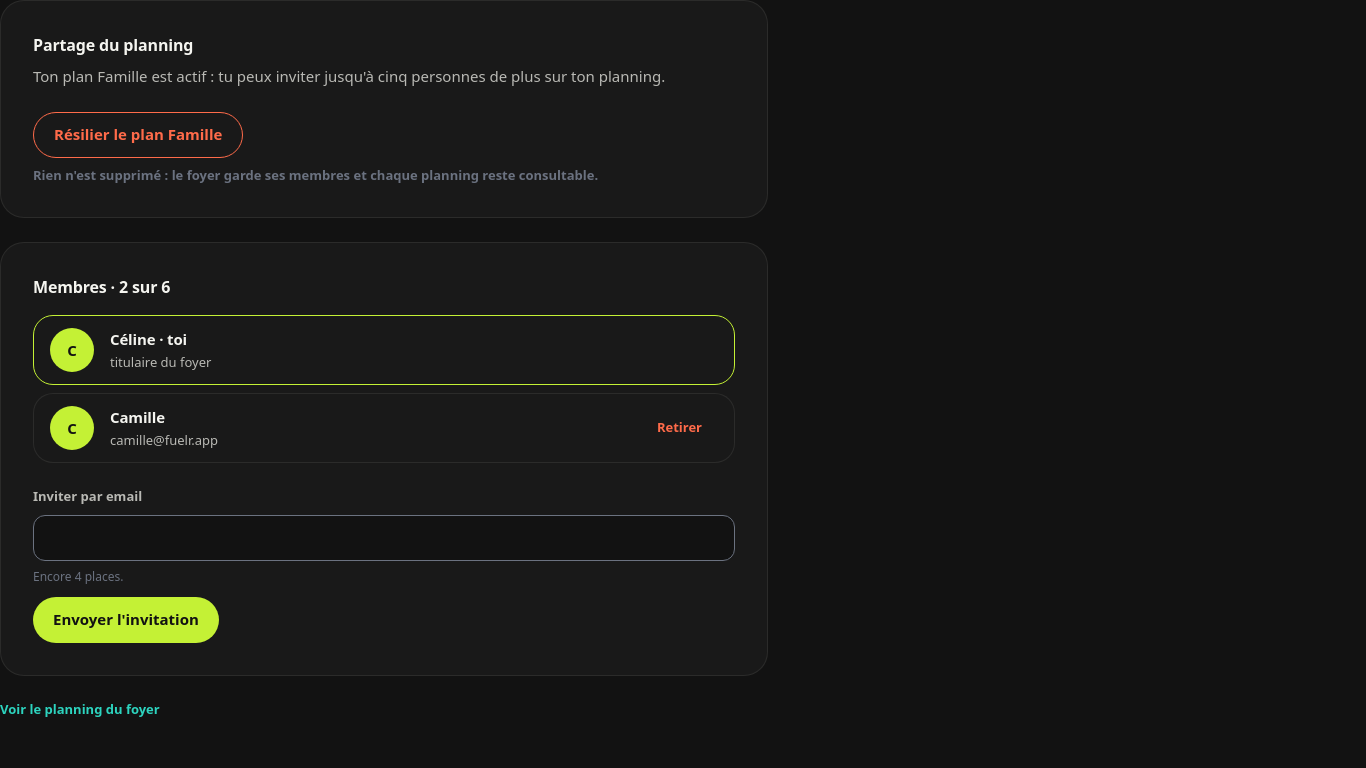
Scenario: HouseholdPanel › a member stays when the question is answered no
Click the button with aria-label "Retirer Camille du foyer". click: (679, 428)
box: 641,410 -> 718,446
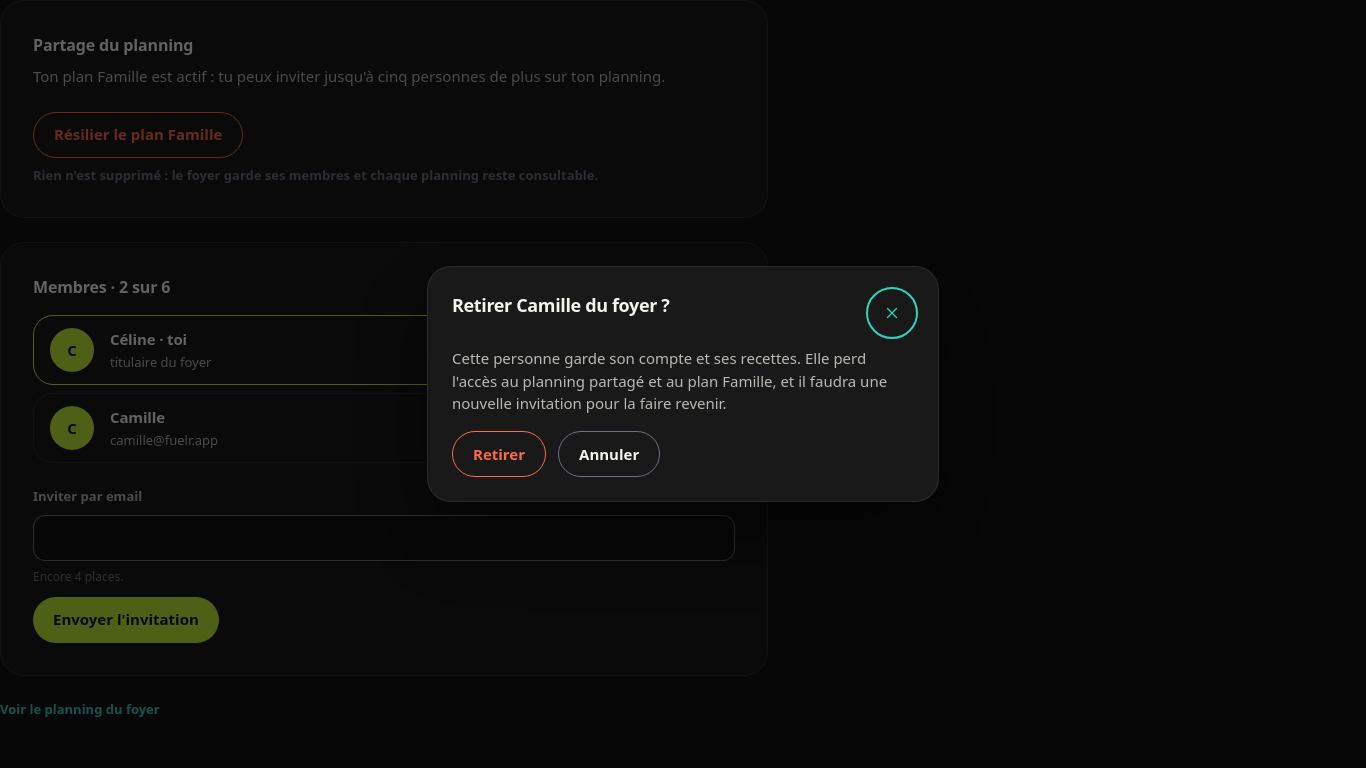
Click the button "Annuler". click: (609, 454)
box: 558,431 -> 660,477
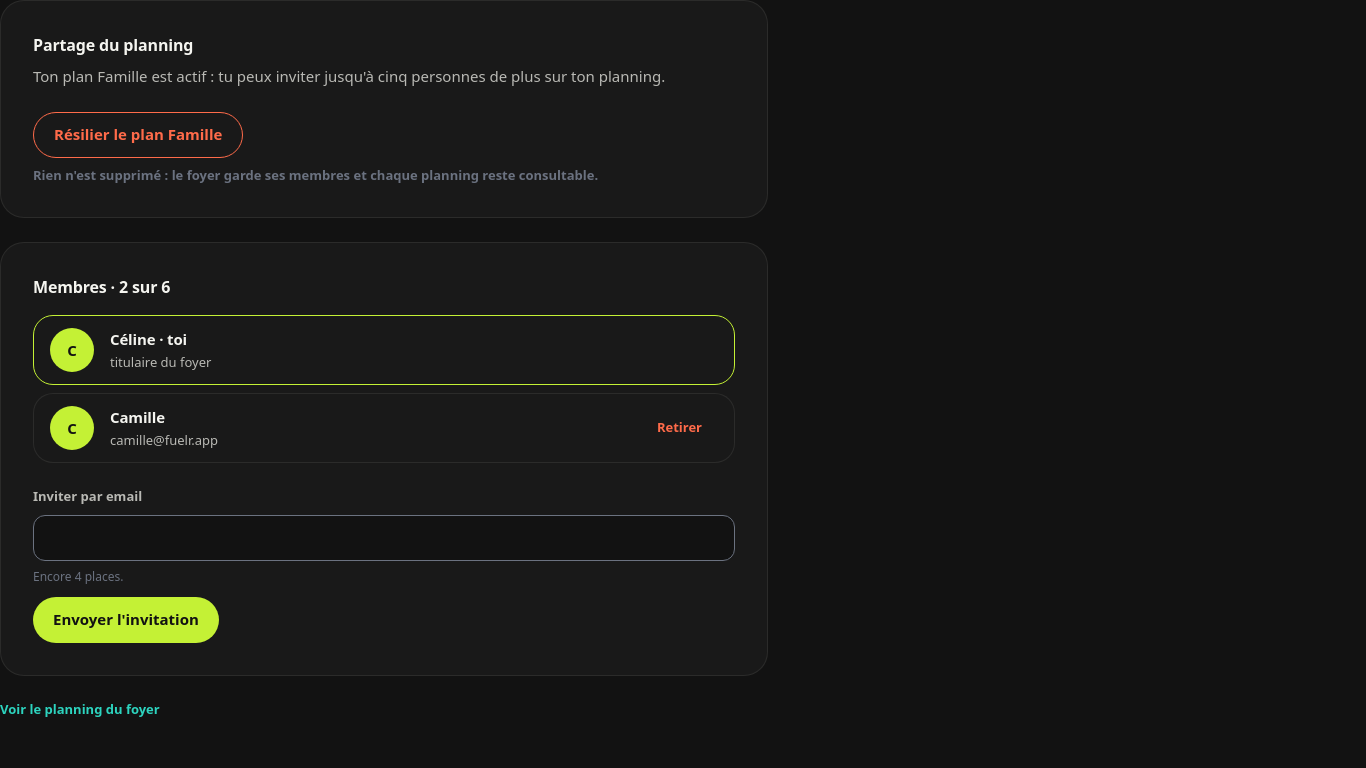
Now the dialog with test id "remove-member-confirm" is gone
